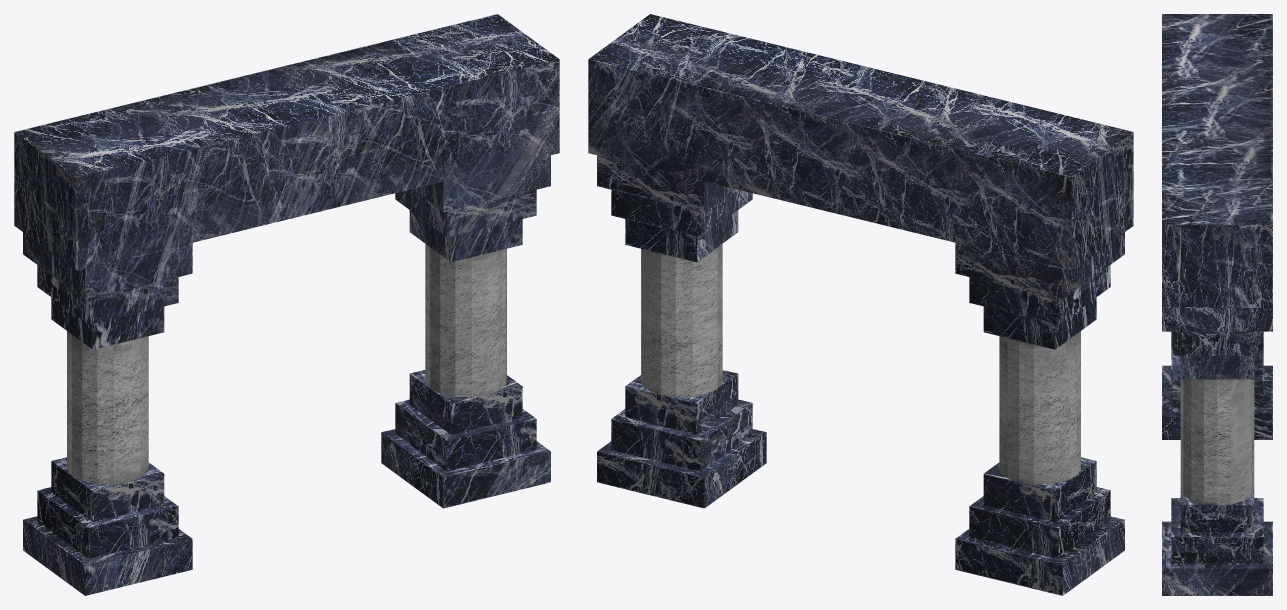
File: arco_texture_buone.obj
3 renders of one model, left to right at view 1: azimuth 30°, elevation 25°; view 2: azimuth 150°, elevation 25°; view 3: azimuth 270°, elevation 25°, orthographic. The views are drawn at different scales.
Visible parts, largest first — view 1: arco_object_1, colonne_object_1.001; view 2: arco_object_1, colonne_object_1.001; view 3: arco_object_1, colonne_object_1.001.
Part boxes in pixels (x1,y1,x2,y2): arco_object_1: [14, 14, 559, 595]; colonne_object_1.001: [67, 244, 506, 484]; arco_object_1: [588, 14, 1133, 595]; colonne_object_1.001: [641, 244, 1080, 484]; arco_object_1: [1162, 14, 1272, 595]; colonne_object_1.001: [1180, 379, 1254, 505].
Size of the model in its own units: 108 by 89.8 by 24.
2 materials, 2 textured.
